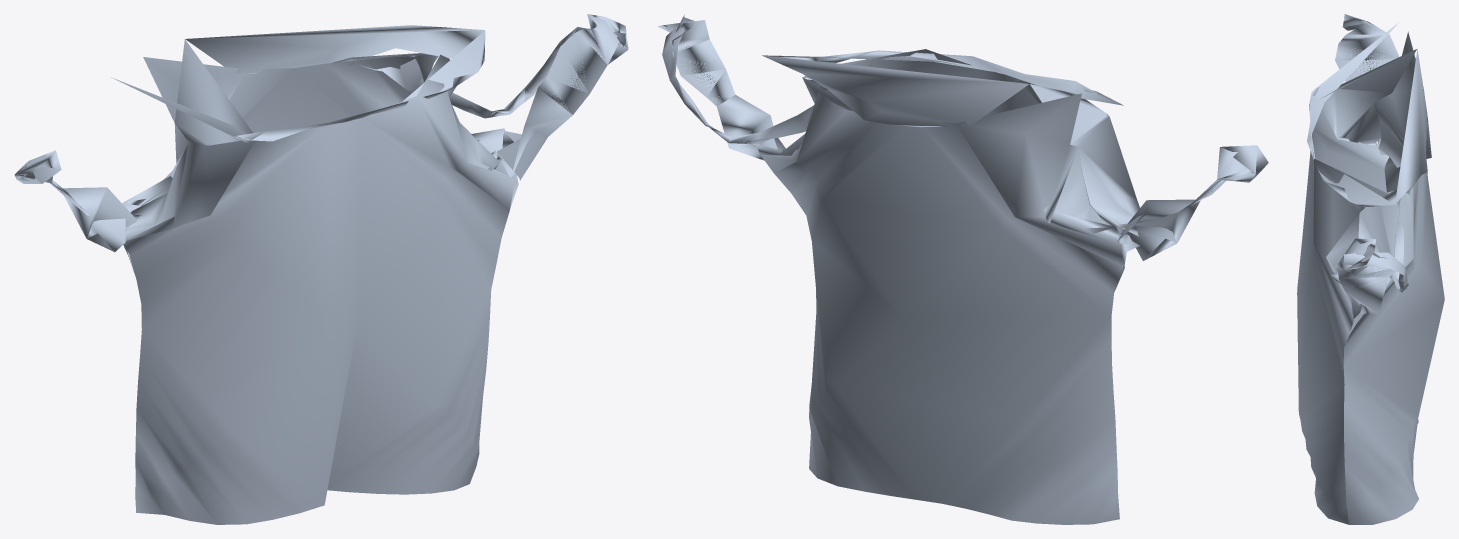
The model's file is frame_020.glb.
3 renders of one model, left to right at view 1: azimuth 30°, elevation 25°; view 2: azimuth 150°, elevation 25°; view 3: azimuth 270°, elevation 25°, orthographic. The views are drawn at different scales.
Parts seen in each view (by area): view 1: panel.front, panel.neck_band, panel.back, panel.sleeve.right, panel.sleeve.left; view 2: panel.back, panel.neck_band, panel.front, panel.sleeve.right, panel.sleeve.left; view 3: panel.back, panel.front, panel.neck_band, panel.sleeve.right, panel.sleeve.left.
Part boxes in pixels (x1,y1,x2,y2): panel.front: (123, 39, 515, 524); panel.neck_band: (111, 25, 625, 142); panel.back: (122, 53, 518, 505); panel.sleeve.right: (497, 14, 628, 180); panel.sleeve.left: (14, 150, 137, 252); panel.back: (755, 79, 1130, 524); panel.neck_band: (662, 15, 1123, 143); panel.front: (802, 49, 1139, 287); panel.sleeve.right: (657, 17, 785, 160); panel.sleeve.left: (1117, 145, 1268, 260); panel.back: (1343, 31, 1444, 524); panel.front: (1297, 49, 1416, 524); panel.neck_band: (1307, 22, 1427, 292); panel.sleeve.right: (1337, 238, 1395, 318); panel.sleeve.left: (1335, 14, 1399, 143).
Bounding box in the file's own units: 1.08 × 0.7791 × 0.2749.
